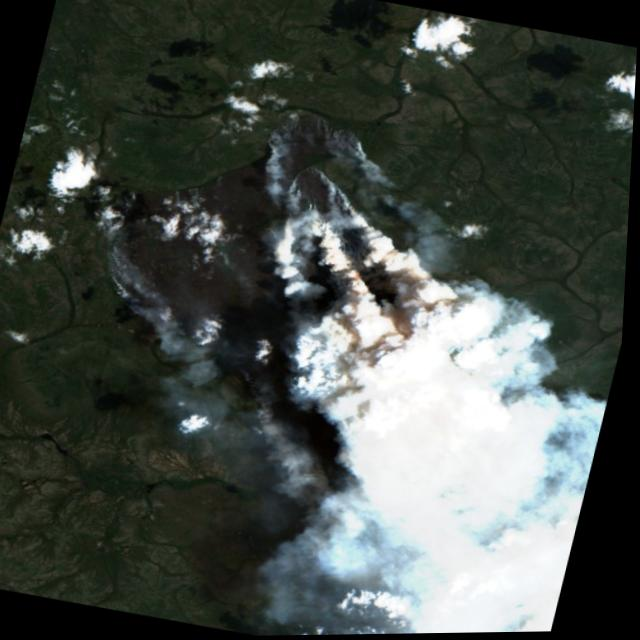fire: (45, 72, 482, 491)
